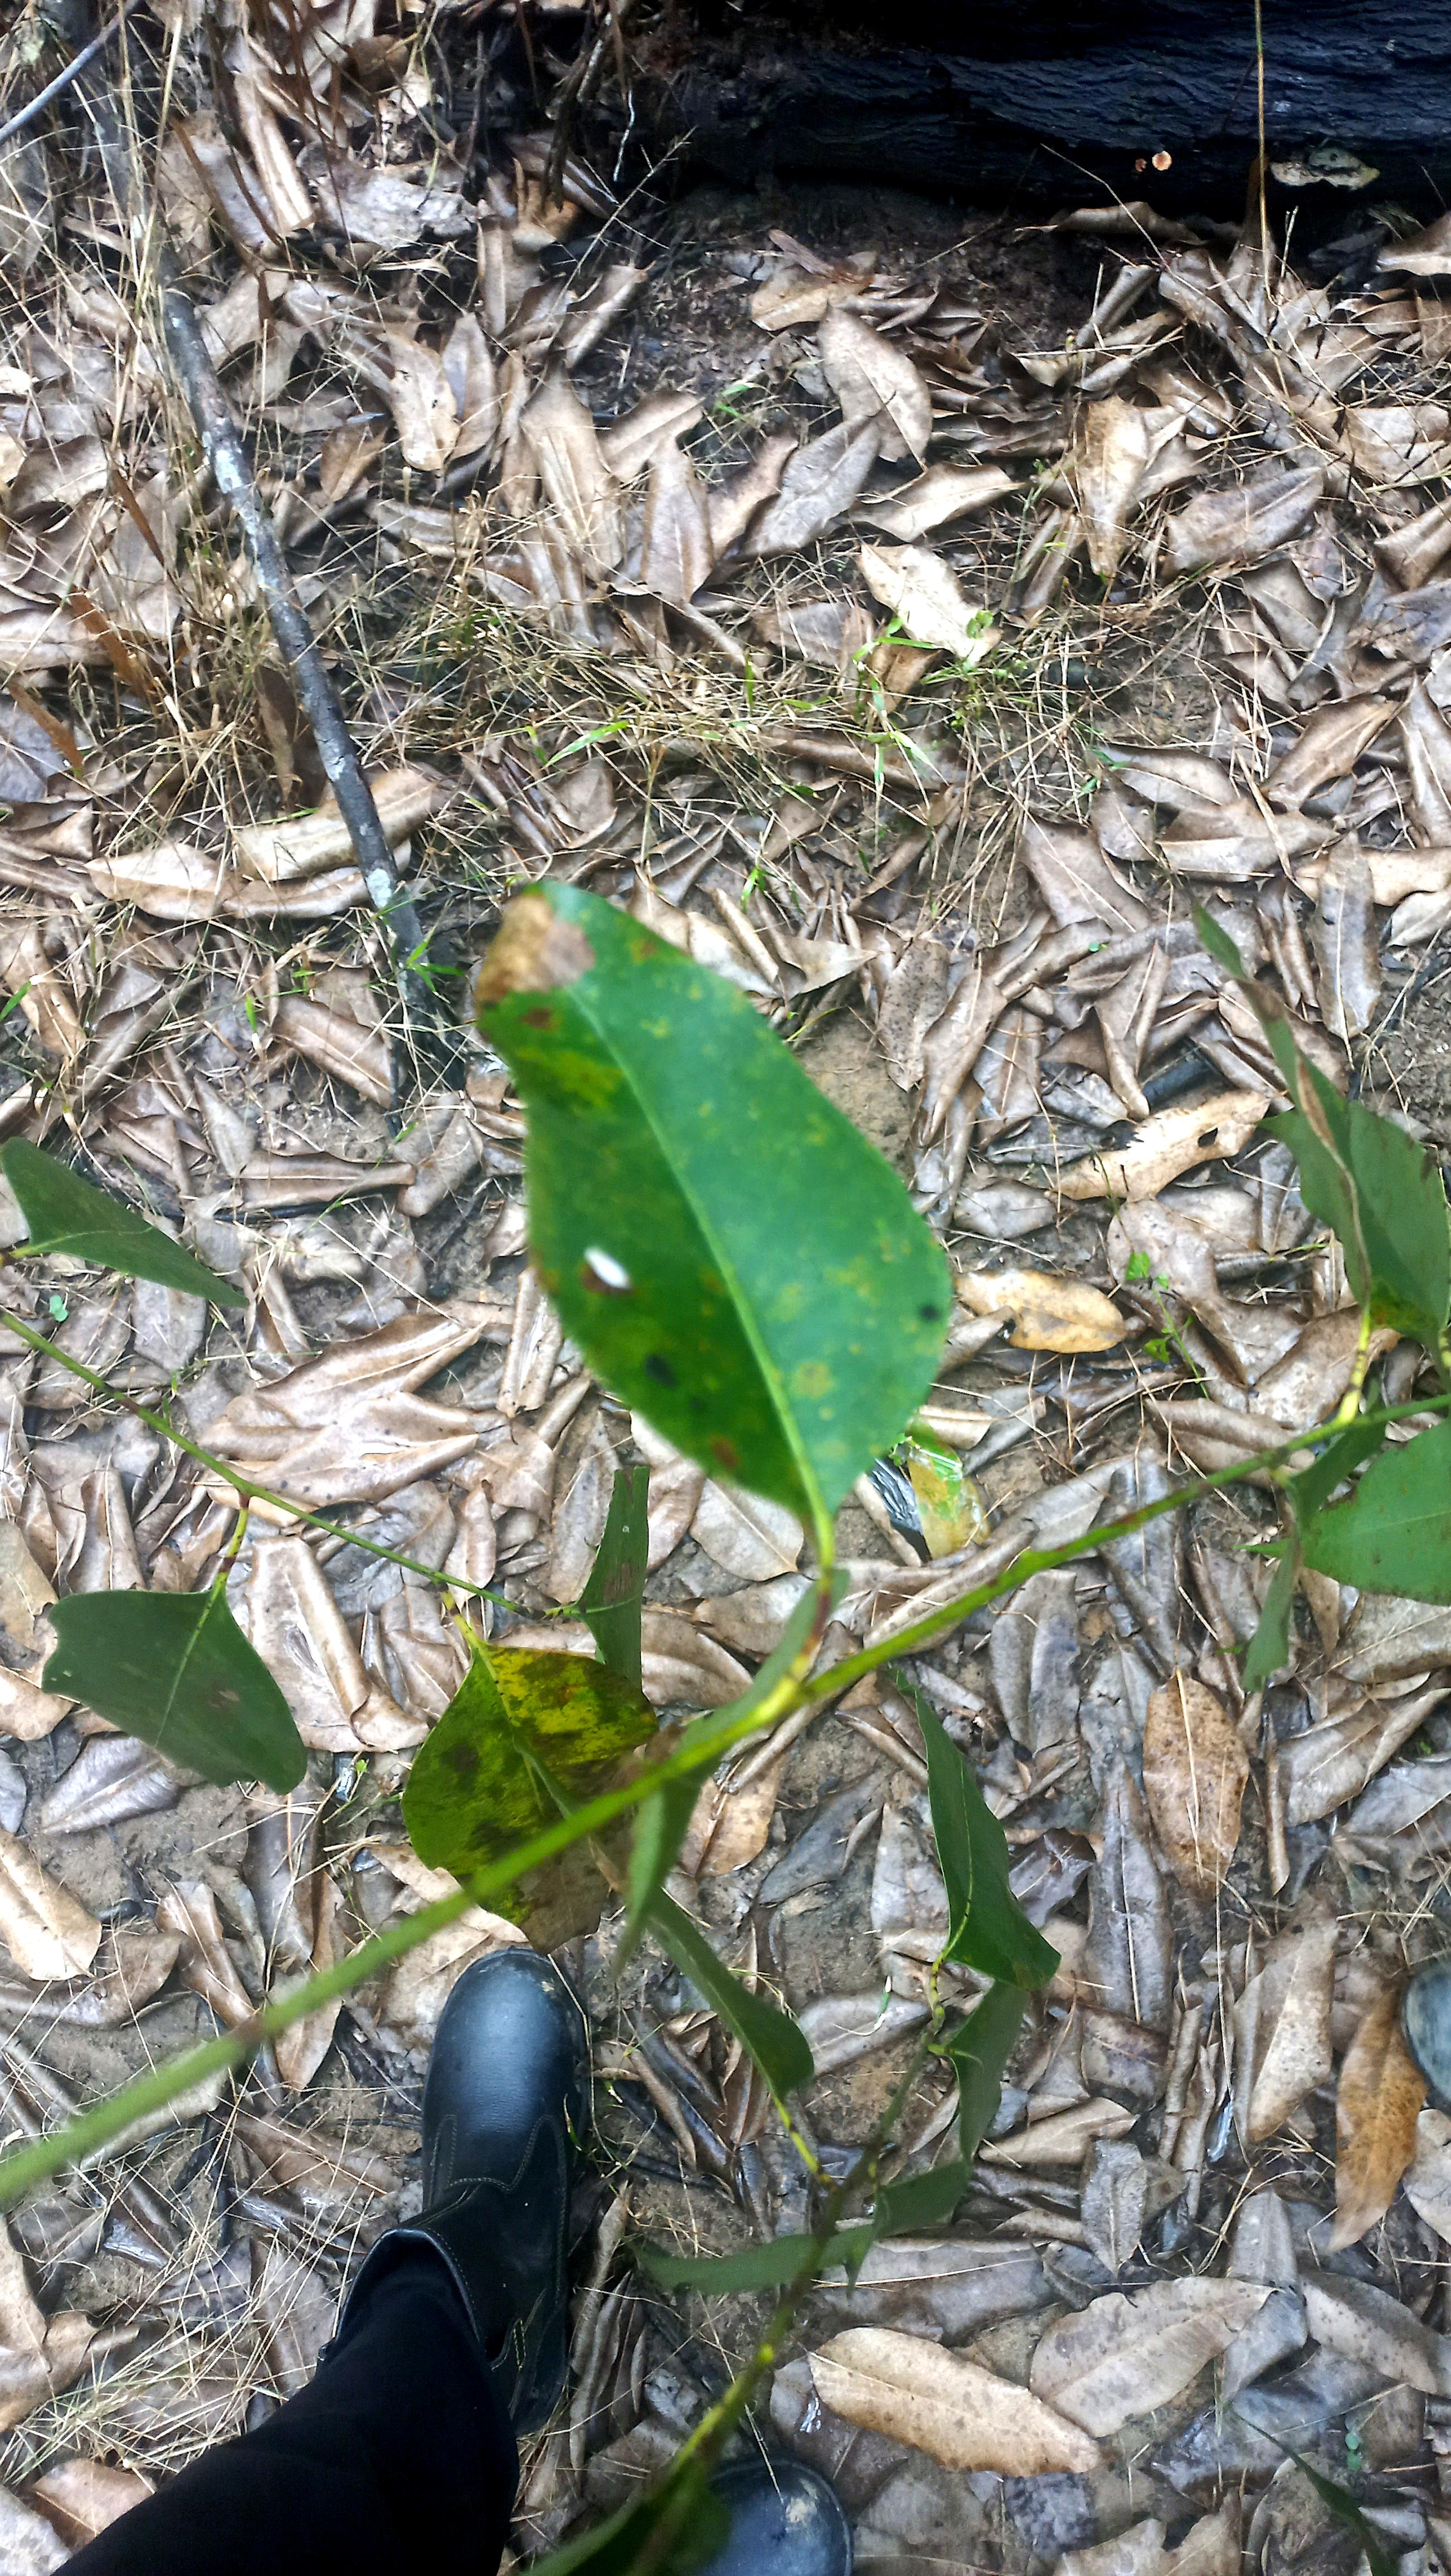Cylindrocladium: (402, 1645, 674, 1960), (474, 870, 595, 1007)
